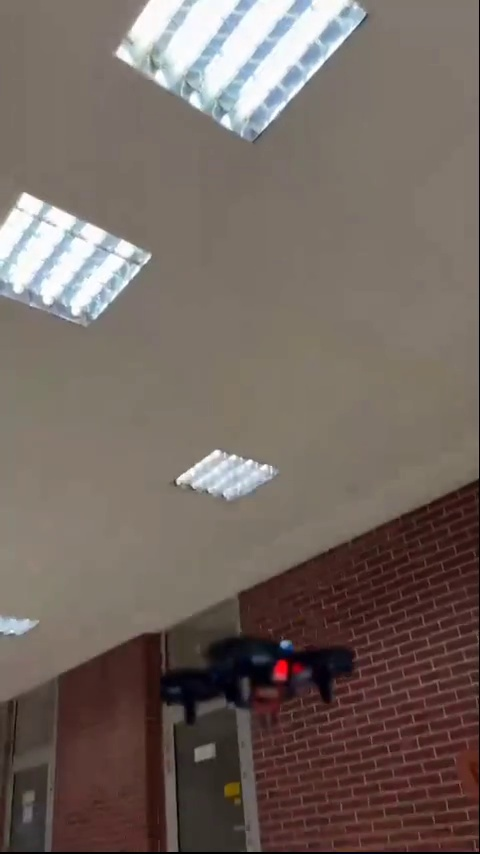drone: (162, 636, 348, 730)
